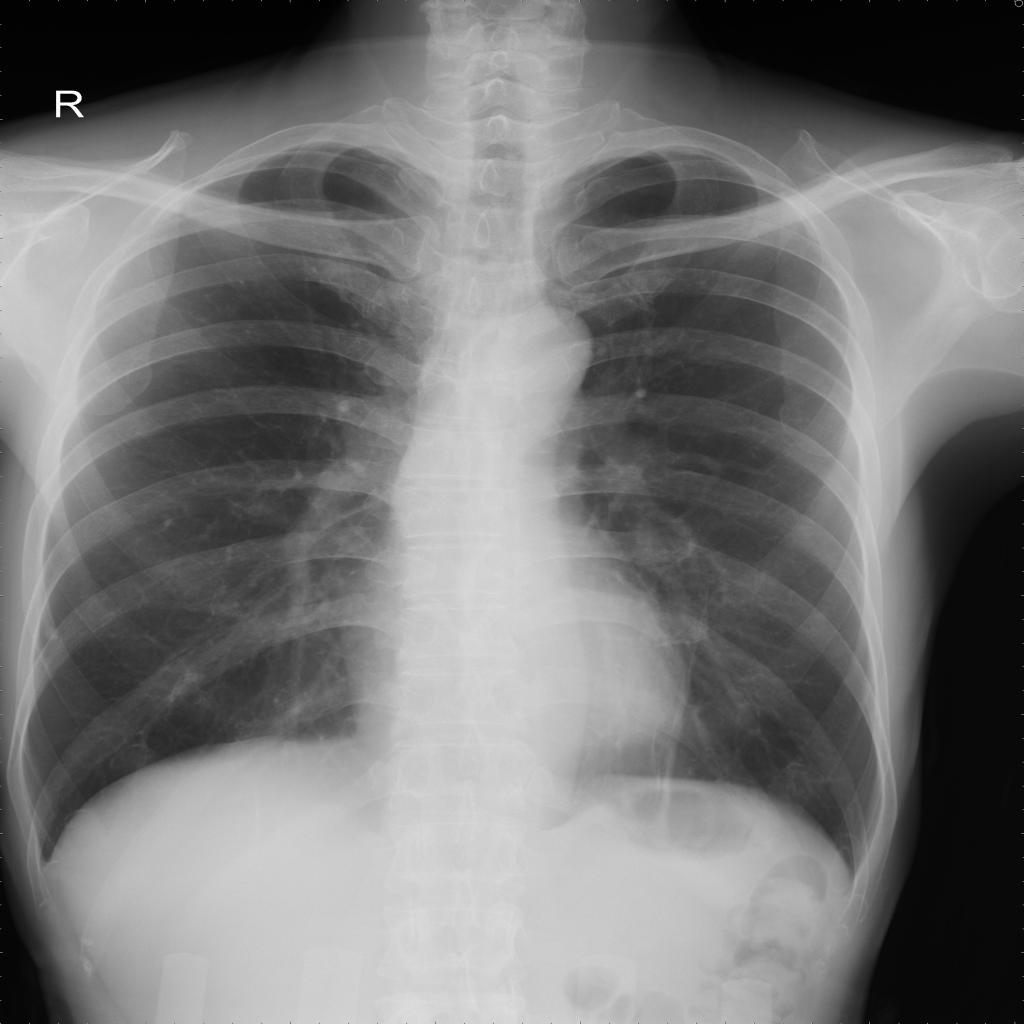Nodule: (44, 628, 62, 643)
